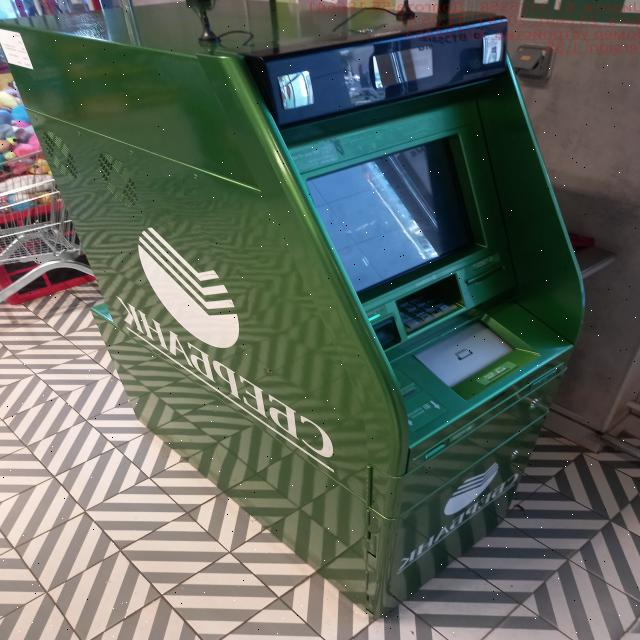bank: (0, 8, 582, 568)
